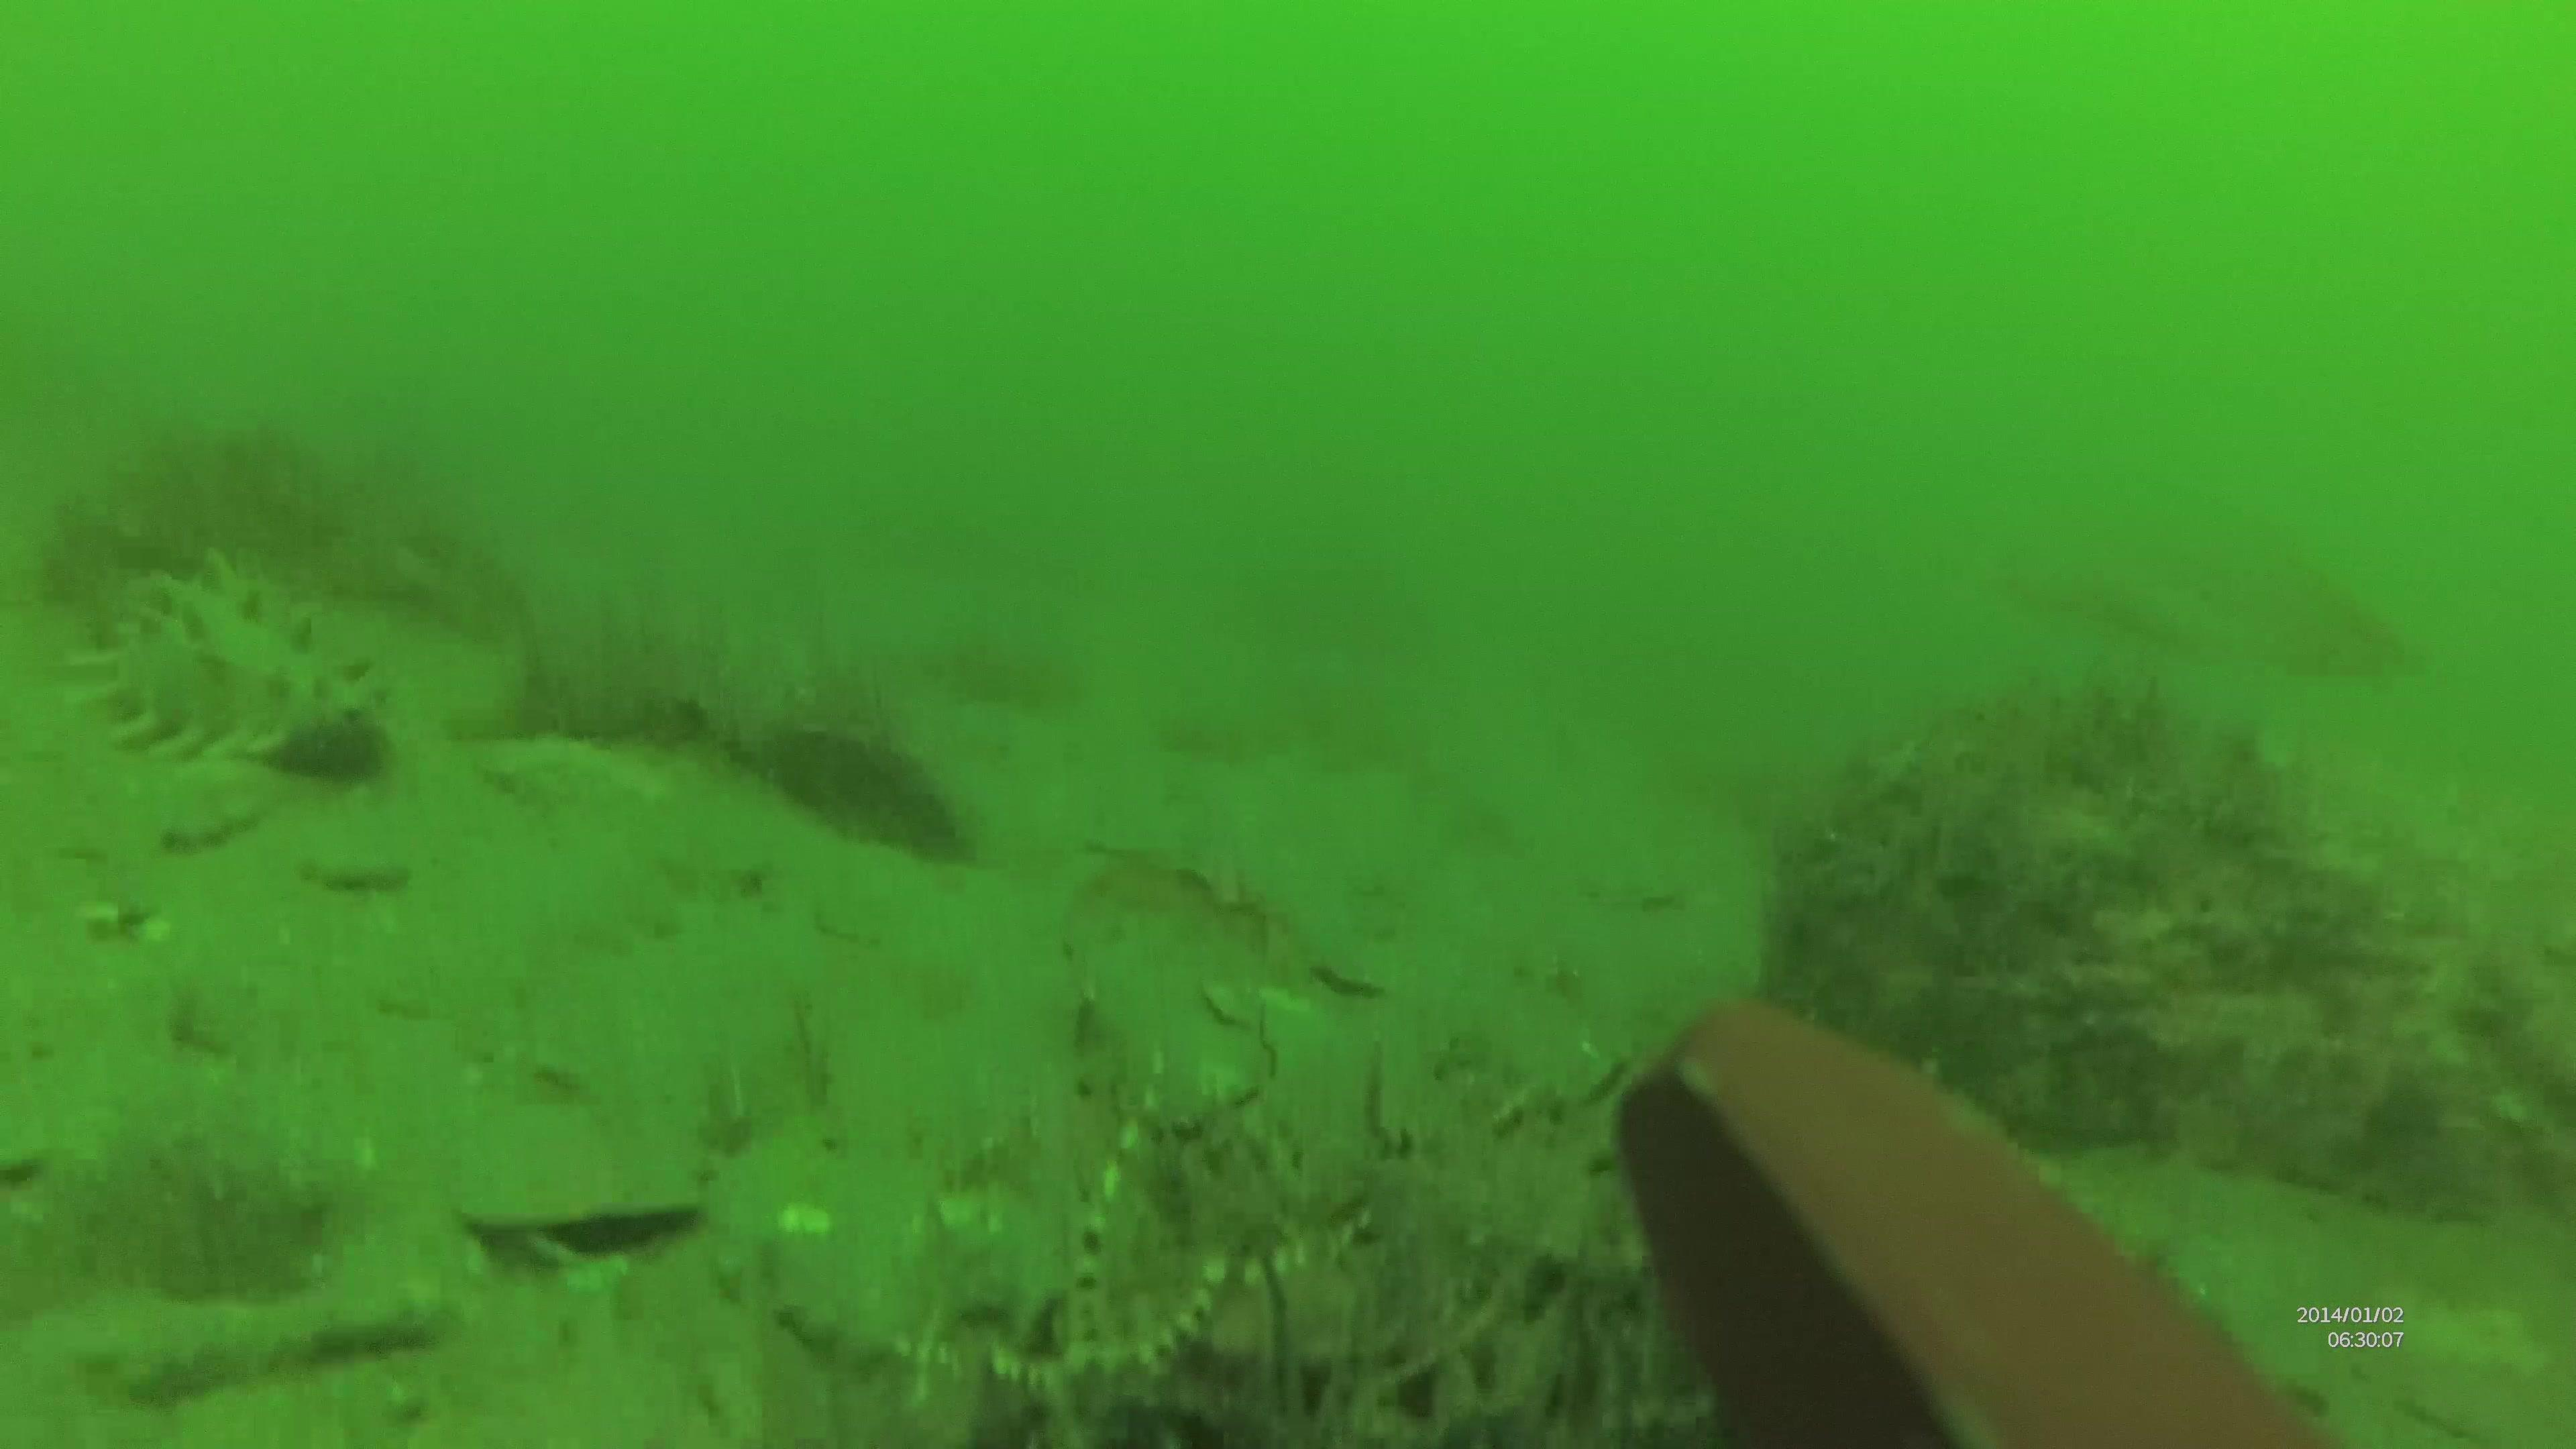holothurian: (88, 556, 389, 777)
scallop: (456, 1146, 697, 1263)
